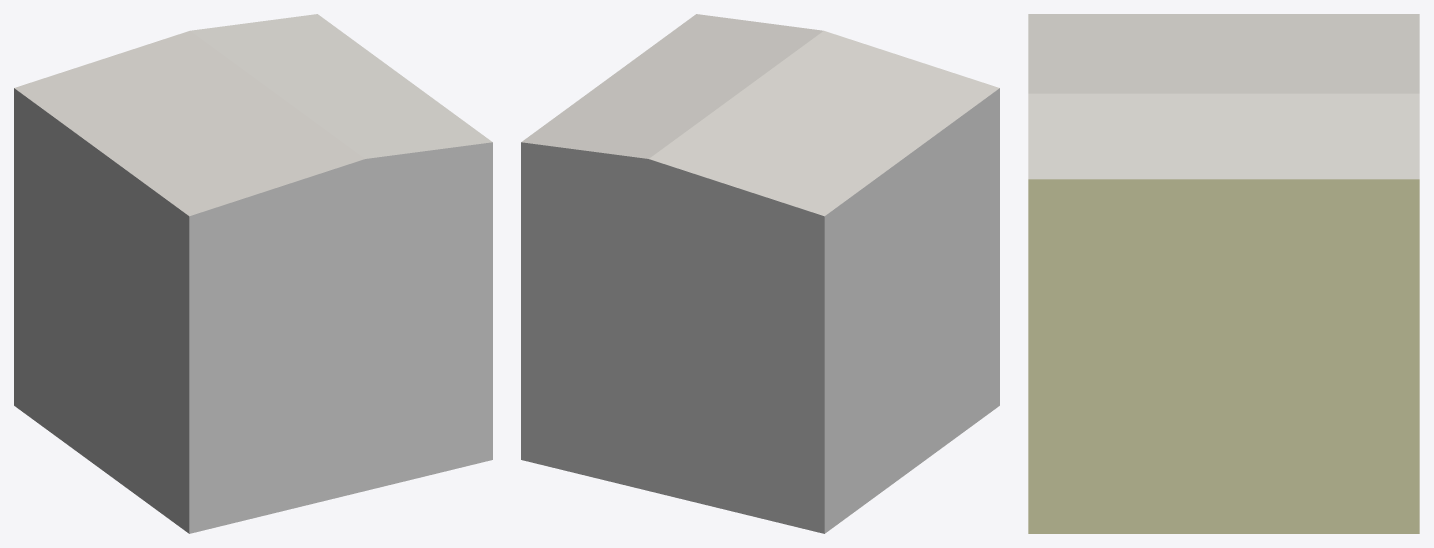
File: Cave_Center_Base_1x1.glb
3 views of the same model, side by side, from view 1: azimuth 30°, elevation 25°; view 2: azimuth 150°, elevation 25°; view 3: azimuth 270°, elevation 25° (orthographic). The views are drawn at different scales.
Visible parts, largest first — view 1: Cave_Center_Base_1x1; view 2: Cave_Center_Base_1x1; view 3: Cave_Center_Base_1x1.
Part boxes in pixels (x1,y1,x2,y2): Cave_Center_Base_1x1: (14,14,492,533); Cave_Center_Base_1x1: (521,14,999,533); Cave_Center_Base_1x1: (1028,14,1419,533).
Size of the model in its own units: 100 by 105 by 100.
